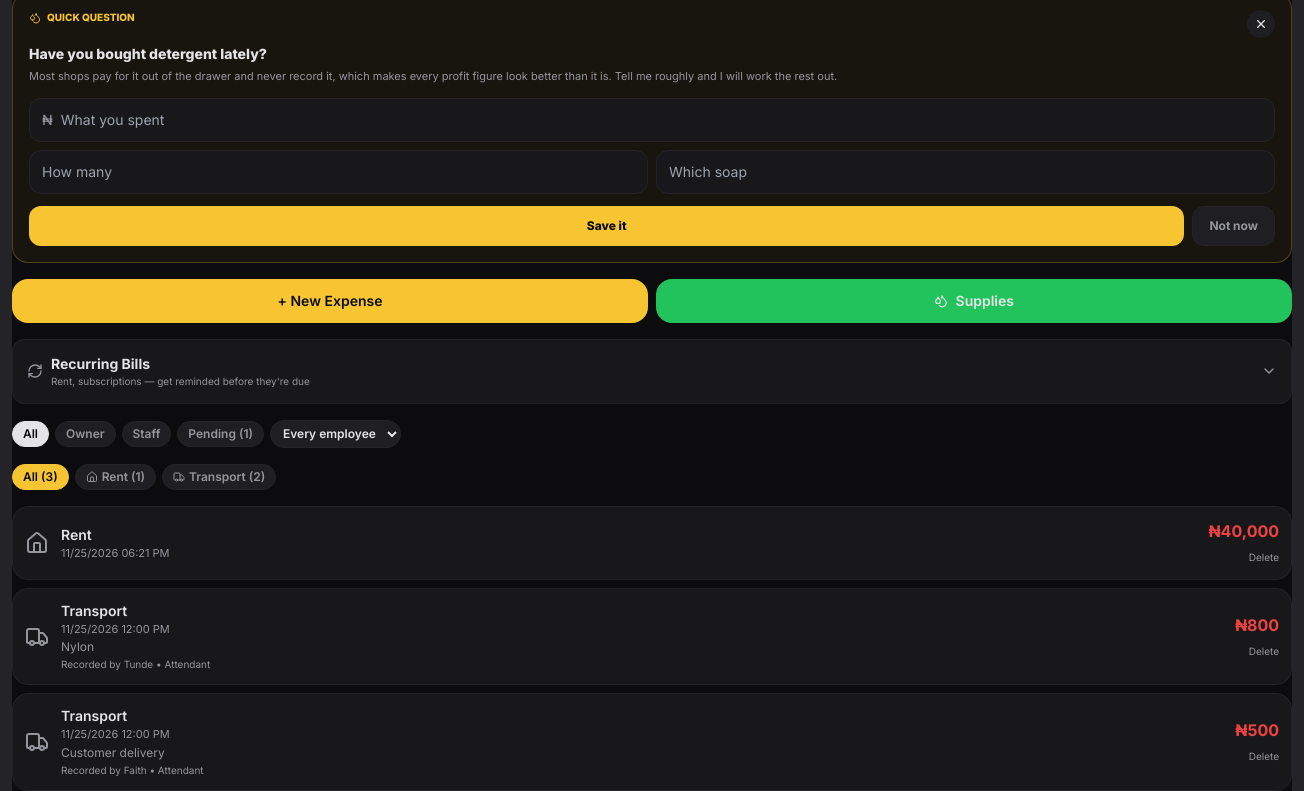
Test: the owner's filters › Staff shows only workers’ expenses
(page scrolled)
Click the button "Staff": (146, 434) [122, 421, 171, 447]
(page scrolled)
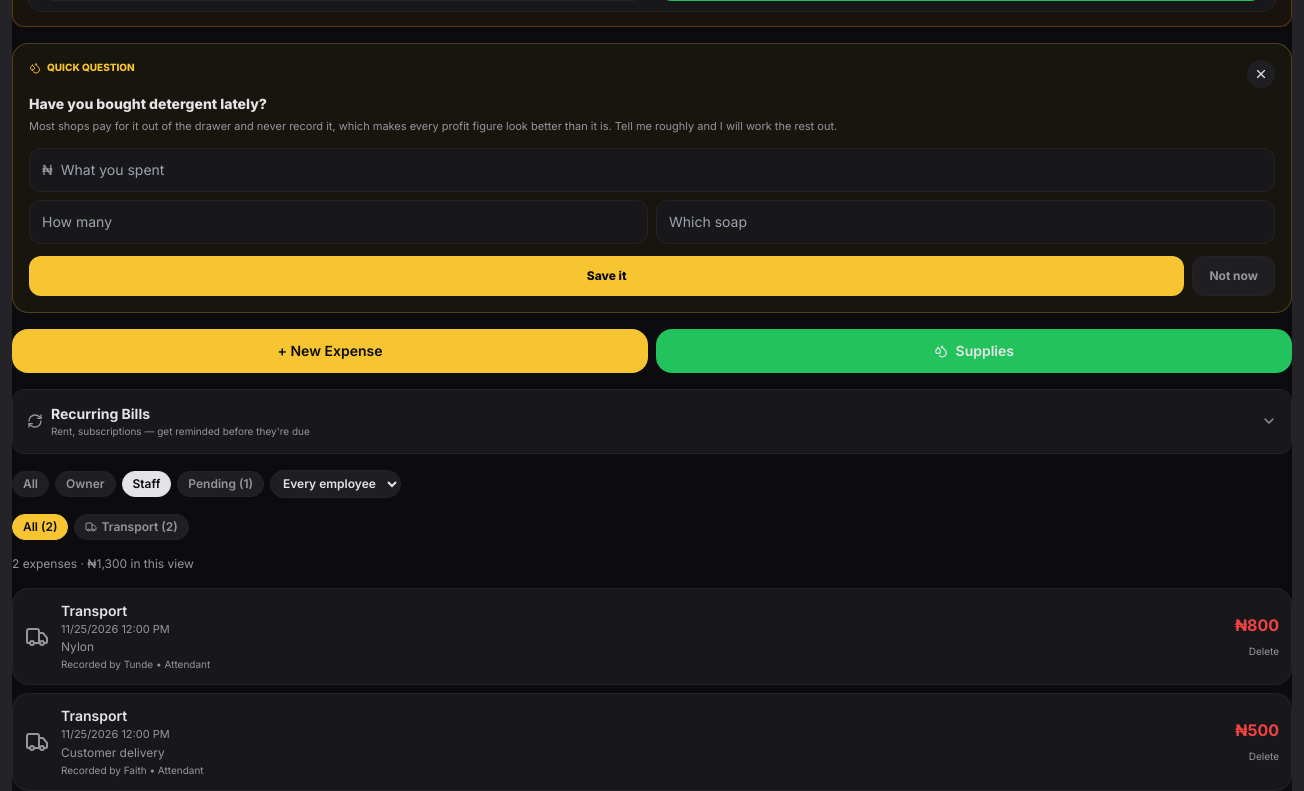
expect the text "2 expenses · ₦1,300 in this view" is shown: met, box [12, 556, 194, 571]
